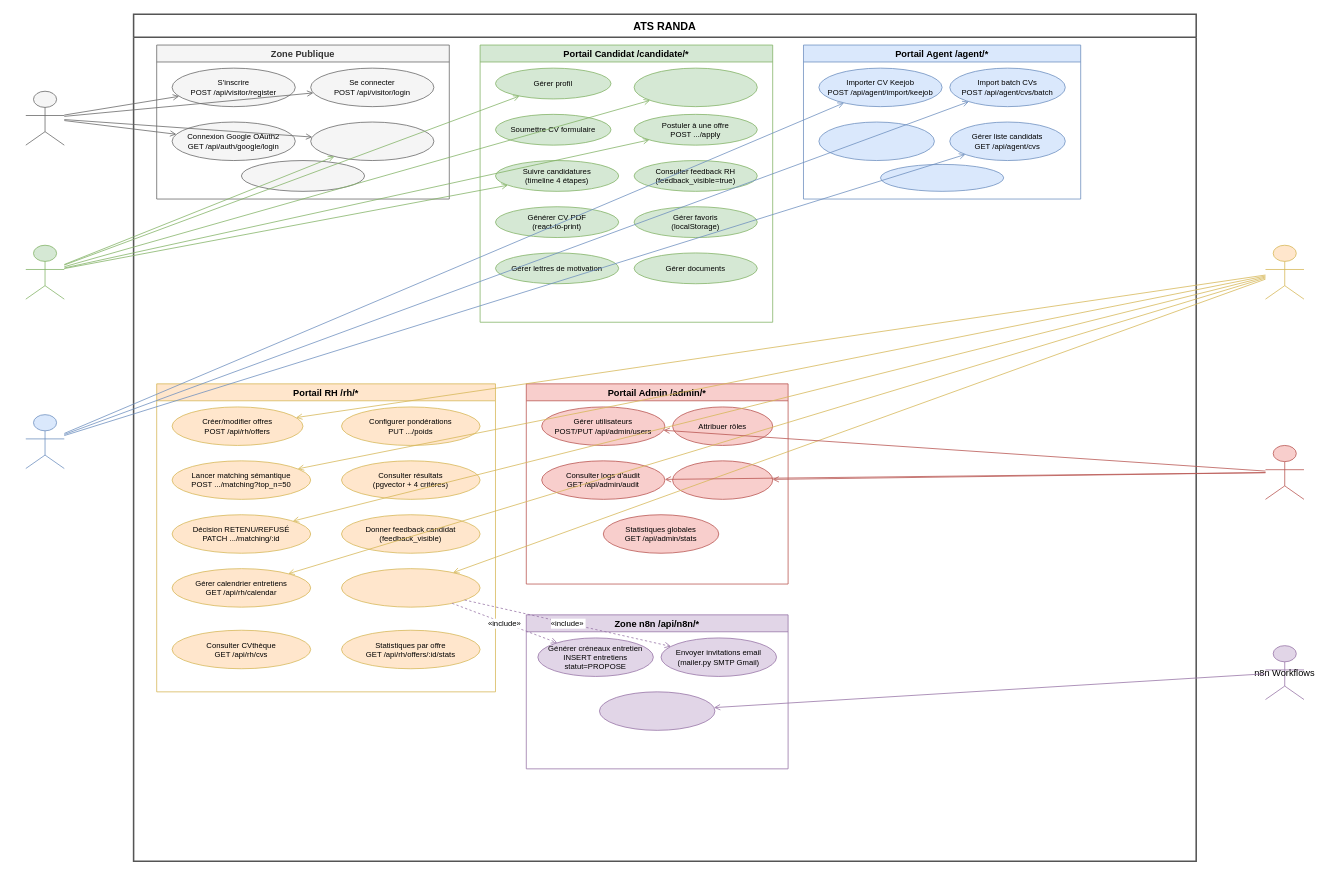
Some shapes in this 1333 by 875 pixel diagram are drawn without their labels. Each missing label, with the centre of its shape:
Administrateur: (x=1284, y=472)
Agent de saisie: (x=44, y=441)
Candidat: (x=44, y=271)
Consulter historique imports: (x=942, y=177)
Consulter offres actives GET /api/visitor/offers: (x=372, y=141)
Consulter qualité OCR (score 0-100): (x=876, y=141)
Déclencher workflow n8n POST /api/n8n/declencher-generation: (x=410, y=587)
Déposer CV PDF POST /api/candidate/cvs/upload: (x=695, y=87)
Responsable RH: (x=1284, y=271)
Visiteur: (x=44, y=117)
Voir détail offre GET /api/visitor/offers/:id: (x=303, y=175)
Vérifier santé système GET /api/admin/system: (x=722, y=479)
Webhook entrant (X-N8N-Secret): (x=657, y=710)
